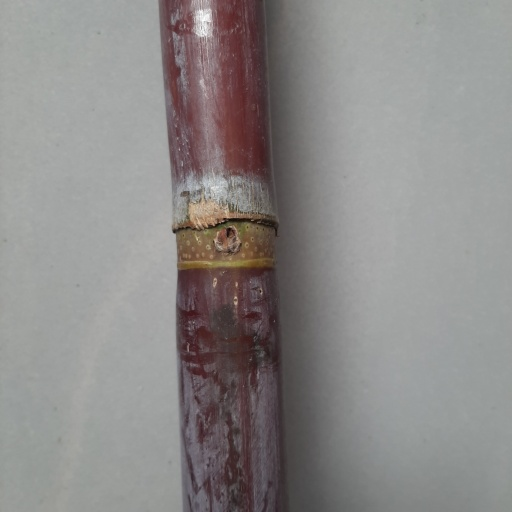Damage_Bud: (214, 225, 241, 253)
